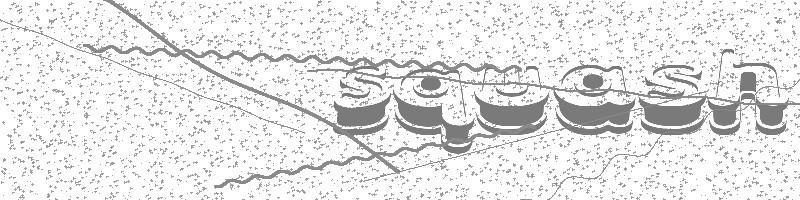a: (553, 64, 636, 135)
h: (708, 47, 790, 137)
q: (392, 67, 475, 155)
s: (638, 63, 706, 137), (333, 64, 392, 136)
u: (475, 64, 550, 136)
